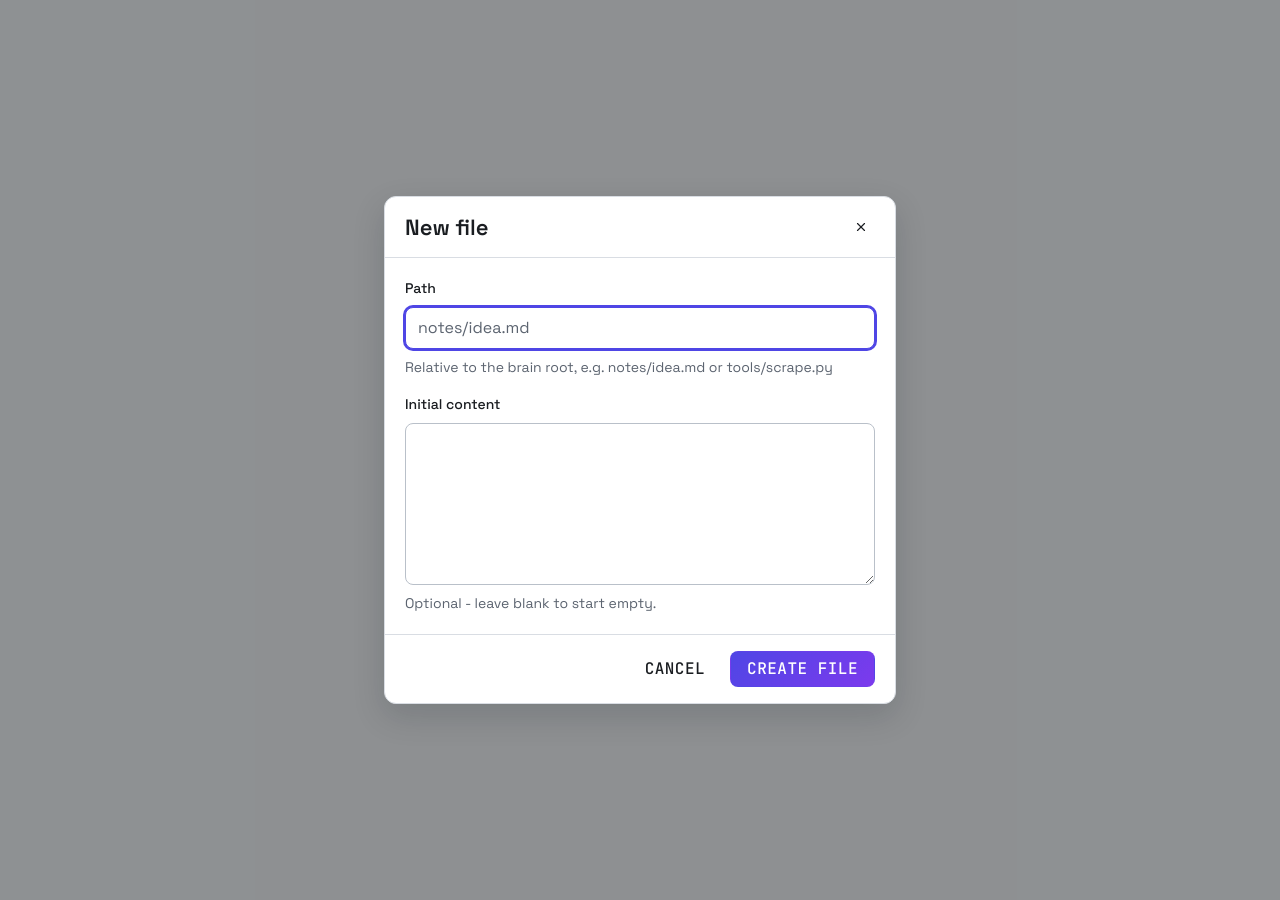
Test case: NewFileDialog › rejects an empty path and shows a validation message
Click the button "Create file" at [803, 669], box [730,651,875,687]
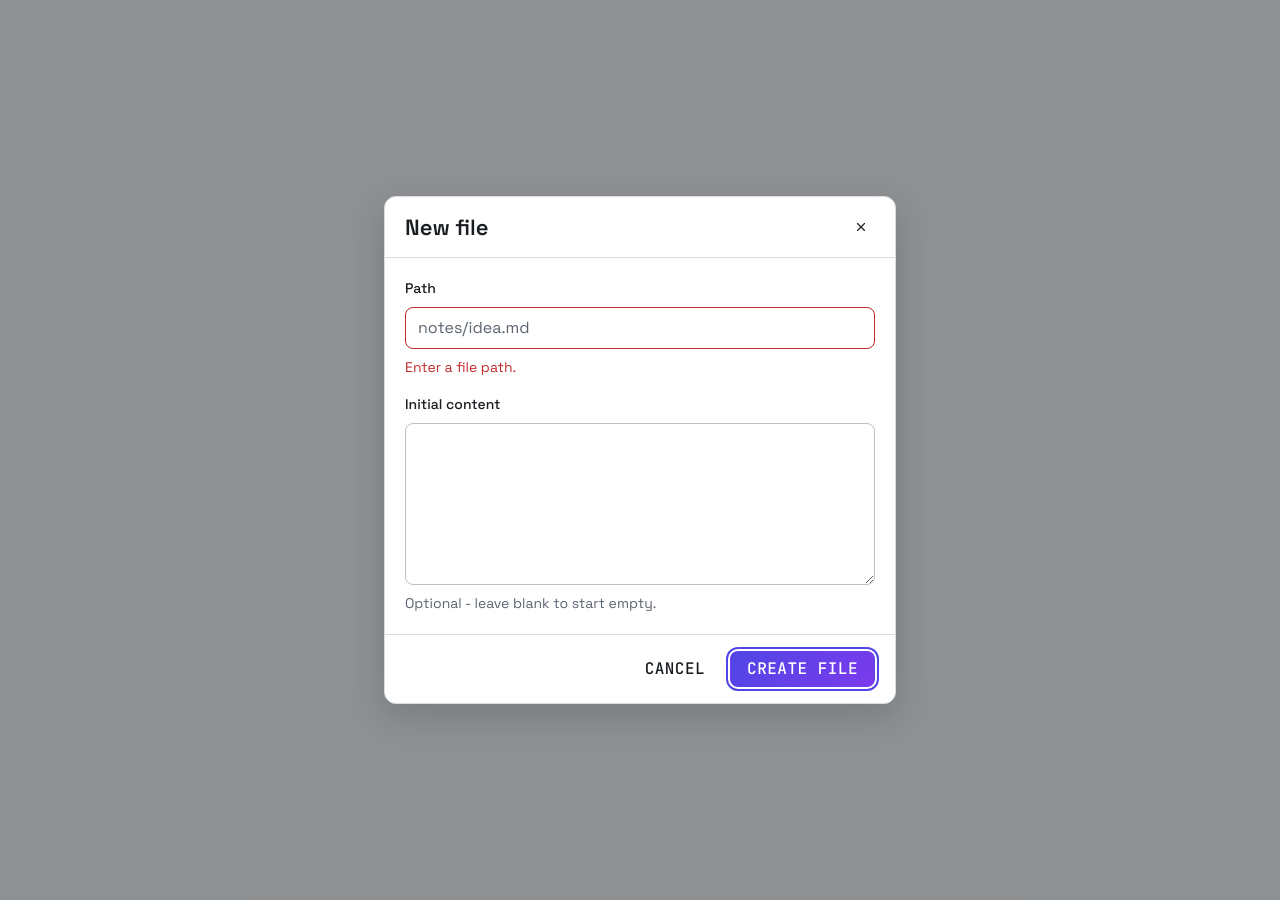
Result: the text "Enter a file path." is shown at [405,358,516,376]
